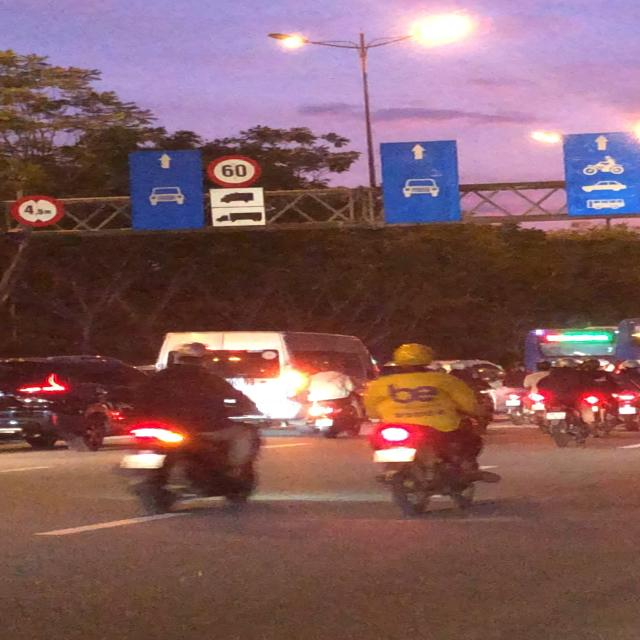Bien bao han che chieu cao: (5, 192, 68, 229)
Bien bao toc do toi da cho phep: (202, 152, 261, 186)
